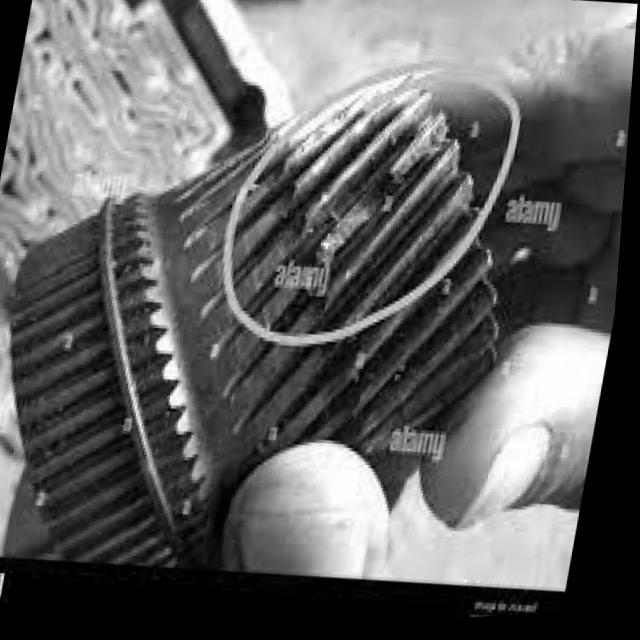Fault-Exist: (202, 74, 508, 366)
